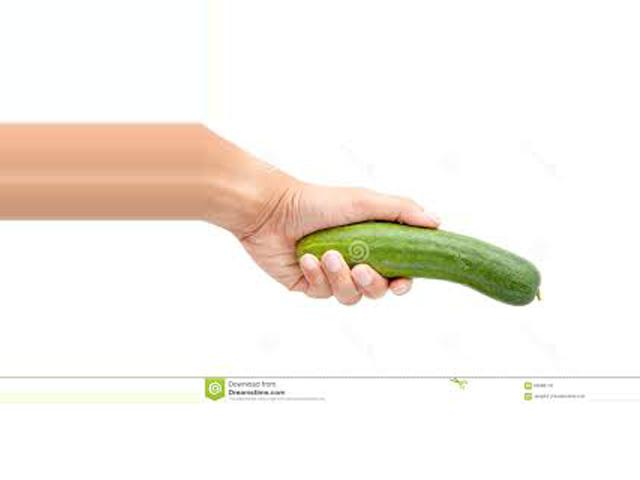cucumber: (295, 224, 541, 306)
